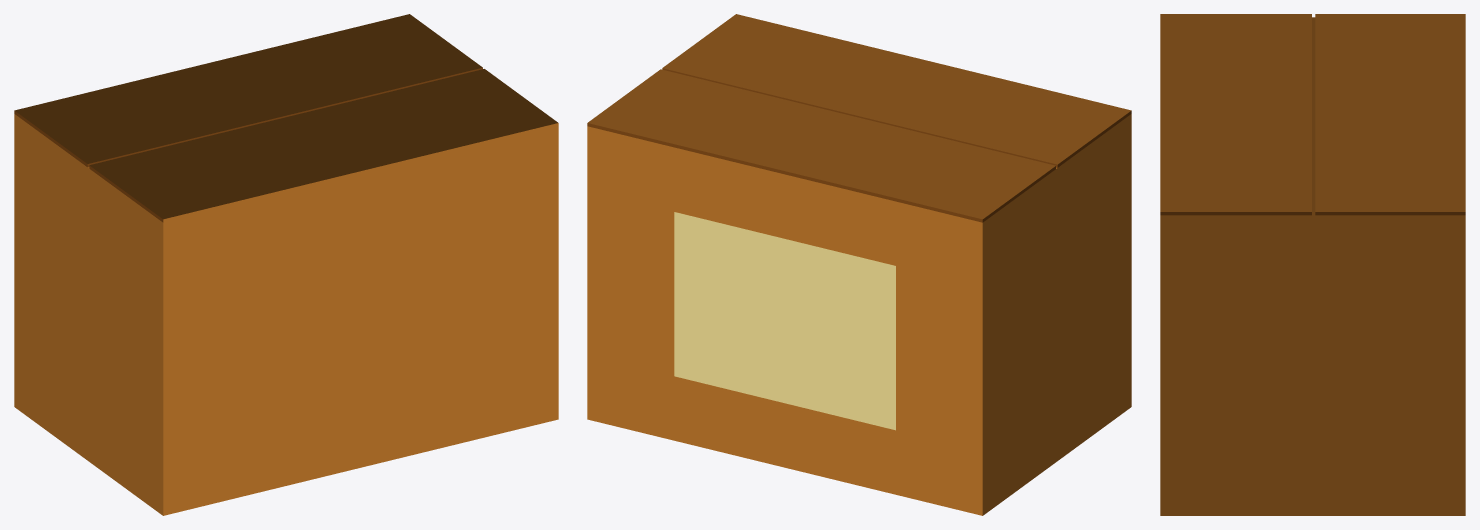
File: Small Box.fbx
The picture shows the model from 3 angles, left to right: view 1: azimuth 30°, elevation 25°; view 2: azimuth 150°, elevation 25°; view 3: azimuth 270°, elevation 25°; orthographic projection. The views are drawn at different scales.
Visible parts, largest first — view 1: Node 0; view 2: Node 0; view 3: Node 0.
Part boxes in pixels (x1,y1,x2,y2): Node 0: (14, 14, 558, 515); Node 0: (587, 14, 1131, 515); Node 0: (1160, 14, 1465, 515).
Bounding box in the file's own units: 0.3095 × 0.3402 × 0.4747.
